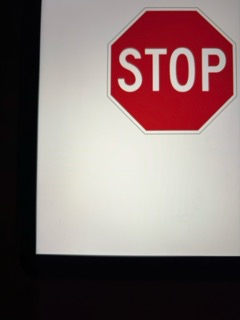STOP: (108, 8, 235, 134)
